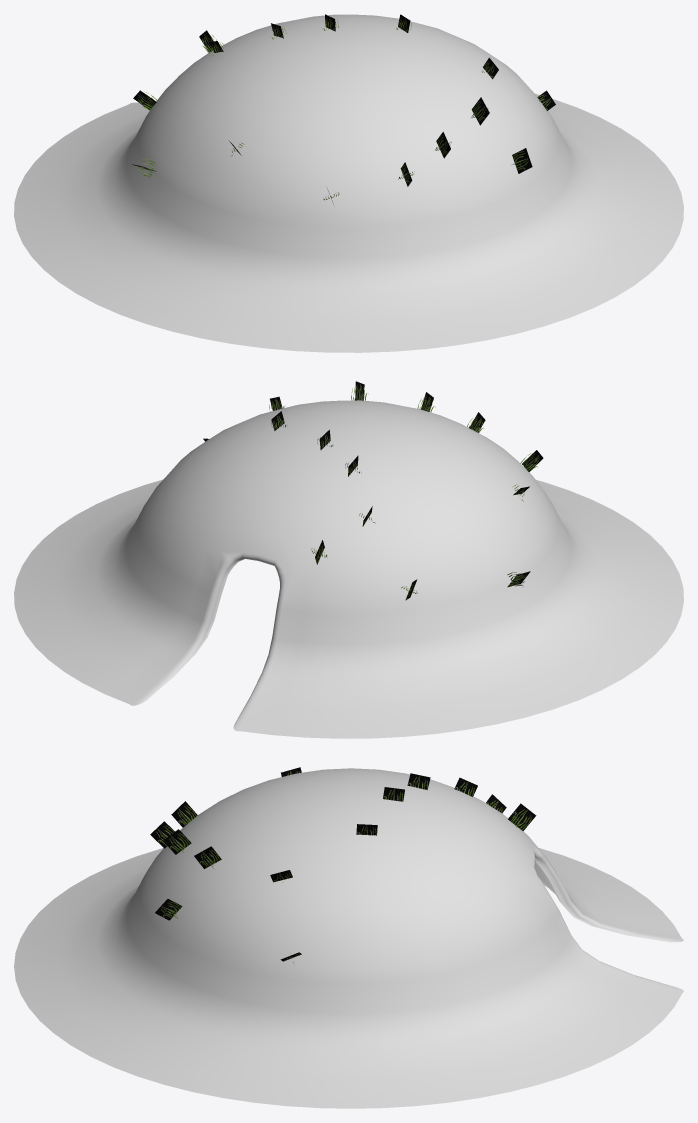
File: Burial grounds new.fbx
3 renders of one model, top to bottom at view 1: azimuth 30°, elevation 25°; view 2: azimuth 150°, elevation 25°; view 3: azimuth 270°, elevation 25°, orthographic.
Parts seen in each view (by area): view 1: Cylinder.001; view 2: Cylinder.001; view 3: Cylinder.001.
Part boxes in pixels (x1,y1,x2,y2): Cylinder.001: (14,14,683,352); Cylinder.001: (14,400,683,738); Cylinder.001: (14,768,683,1108).
Size of the model in its own units: 3305 by 976 by 3283.
Materials: 4 (4 with a texture image).
